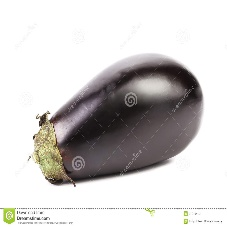eggplant: (32, 56, 205, 184)
